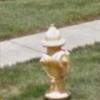a fire hydrant: (40, 26, 71, 100)
